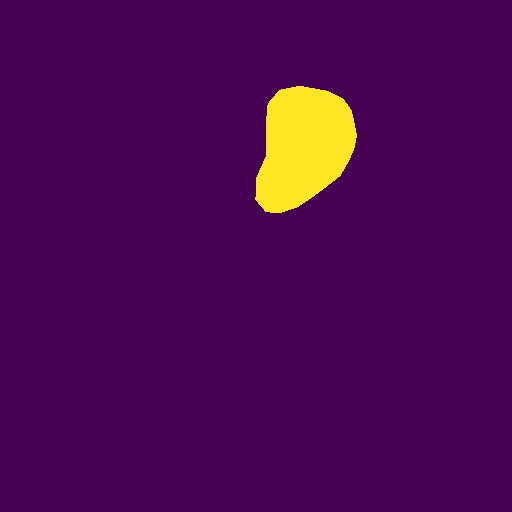Gliomia_tumour: (255, 86, 357, 213)
